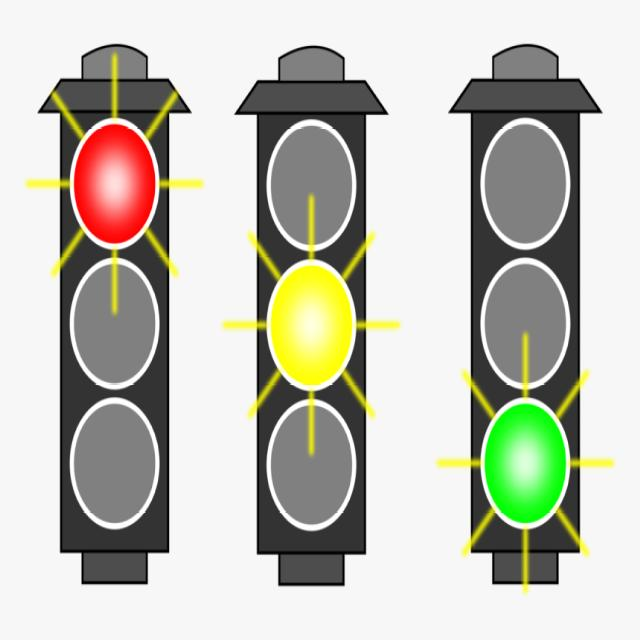green-lights: (472, 379, 575, 537)
red-lights: (57, 114, 167, 257)
yellow-lights: (264, 234, 354, 394)
